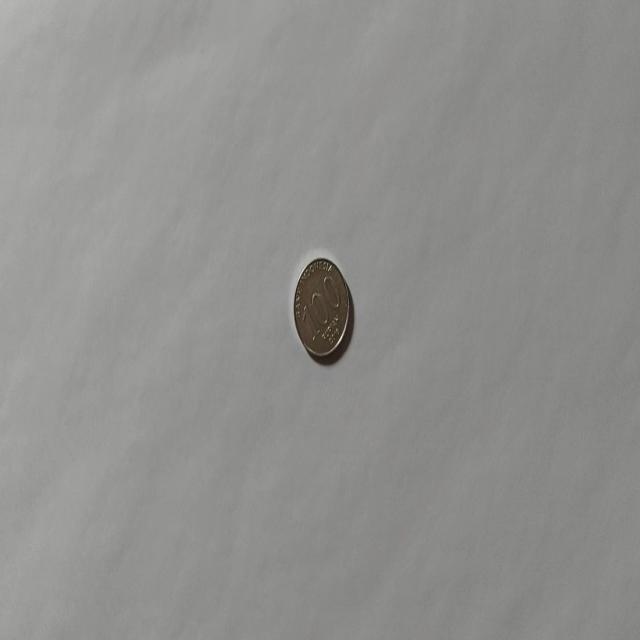seratus rupiah: (292, 256, 350, 359)
